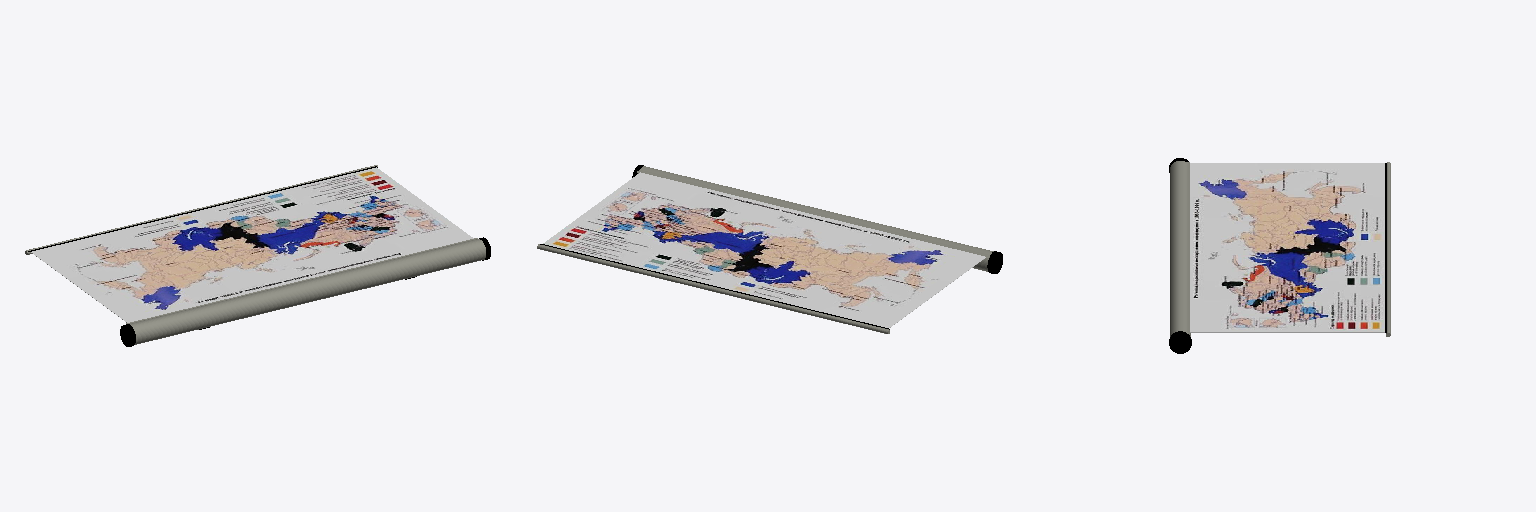
3 renders of one model, left to right at view 1: azimuth 30°, elevation 25°; view 2: azimuth 150°, elevation 25°; view 3: azimuth 270°, elevation 25°, orthographic.
Parts seen in each view (by area): view 1: Rectangle0, Circle01; view 2: Rectangle0, Circle01, Circle04; view 3: Rectangle0, Circle01, Circle04.
Part boxes in pixels (bbox=[...]): Rectangle0: bbox=[31, 167, 473, 322]; Circle01: bbox=[126, 238, 485, 344]; Rectangle0: bbox=[543, 172, 985, 327]; Circle01: bbox=[637, 166, 993, 271]; Circle04: bbox=[537, 244, 889, 333]; Rectangle0: bbox=[1190, 163, 1384, 332]; Circle01: bbox=[1170, 161, 1190, 336]; Circle04: bbox=[1386, 162, 1390, 336].
Size of the model in its own units: 3117 by 171 by 1663.
4 materials, 2 textured.